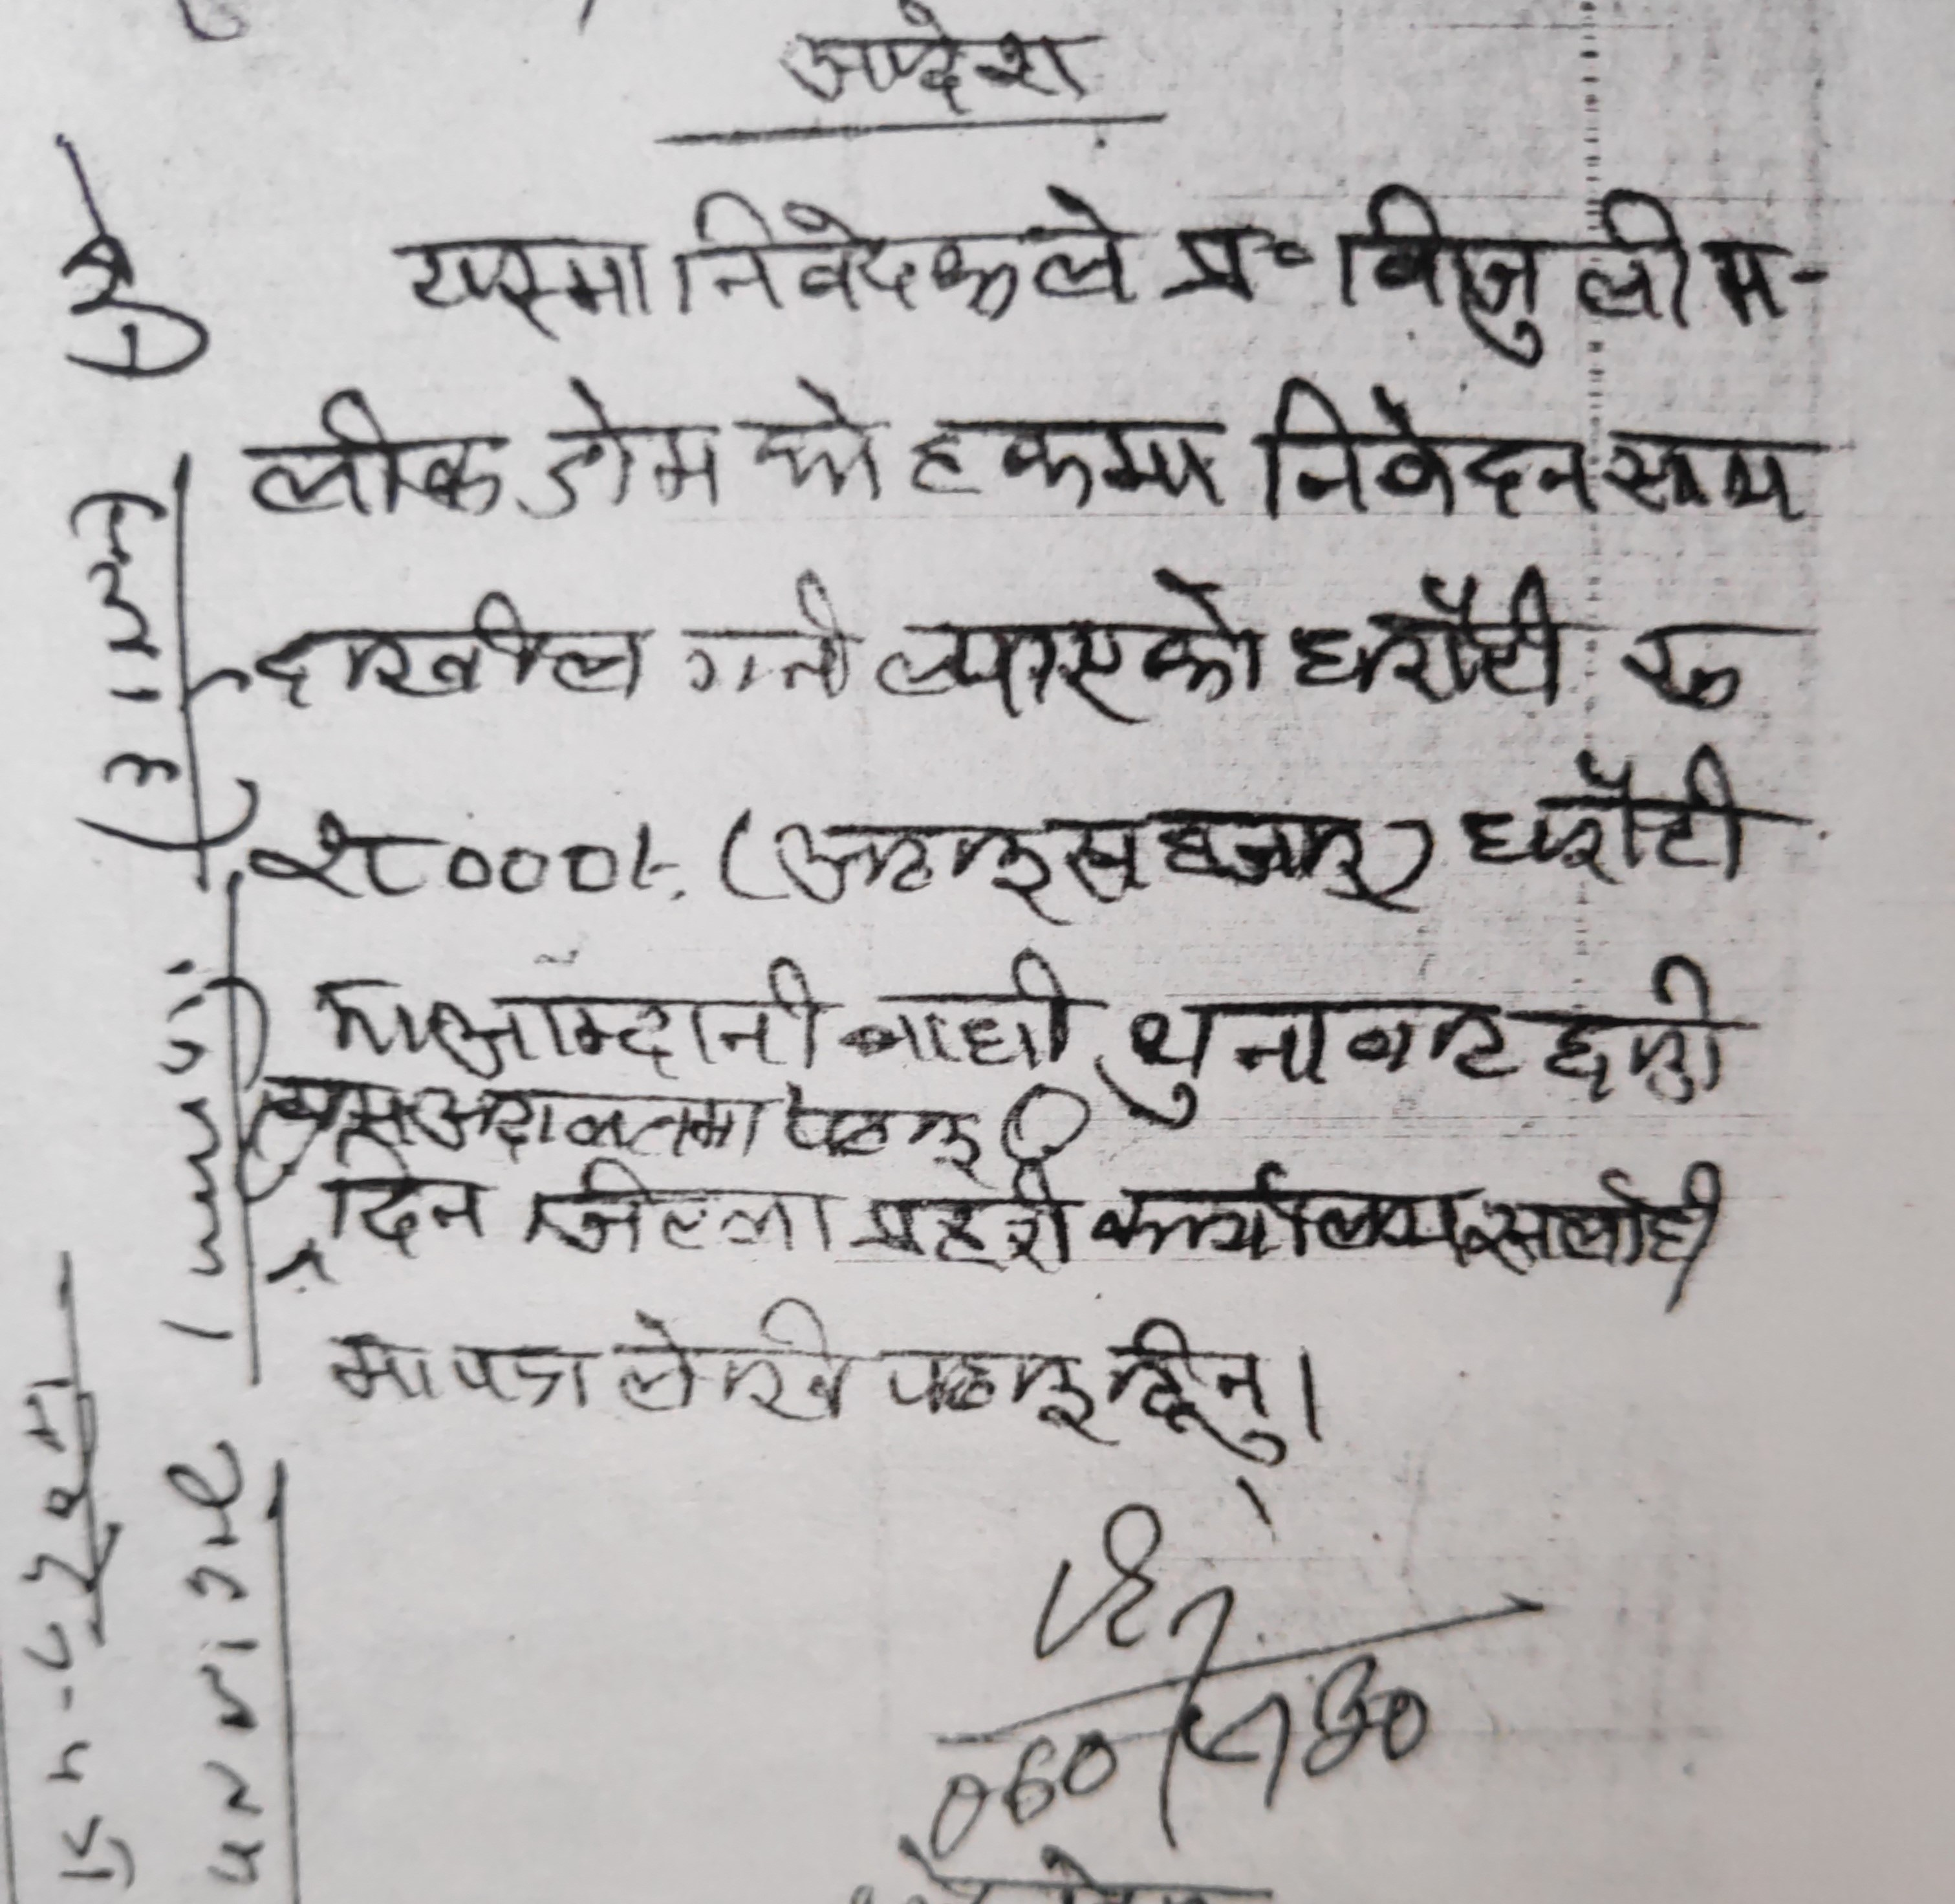text: (1161, 176, 1695, 361), (861, 564, 1276, 729), (672, 176, 1145, 316), (1114, 991, 1520, 1134), (1454, 728, 1763, 901), (1252, 375, 1602, 522), (257, 583, 649, 712), (1292, 564, 1580, 721), (239, 794, 632, 907), (524, 1148, 838, 1272), (765, 7, 1115, 117), (236, 387, 510, 525), (609, 1286, 847, 1443), (901, 410, 1232, 517), (1108, 1314, 1297, 1475), (396, 227, 653, 339), (525, 379, 728, 513), (1154, 792, 1389, 907), (878, 1335, 1103, 1452), (677, 569, 861, 712), (944, 794, 1147, 923), (848, 1166, 1077, 1277), (312, 1138, 489, 1272), (751, 384, 888, 513), (772, 808, 930, 899)
